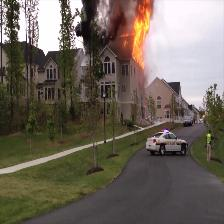fire: (131, 10, 150, 59)
smoke: (81, 2, 127, 33)
